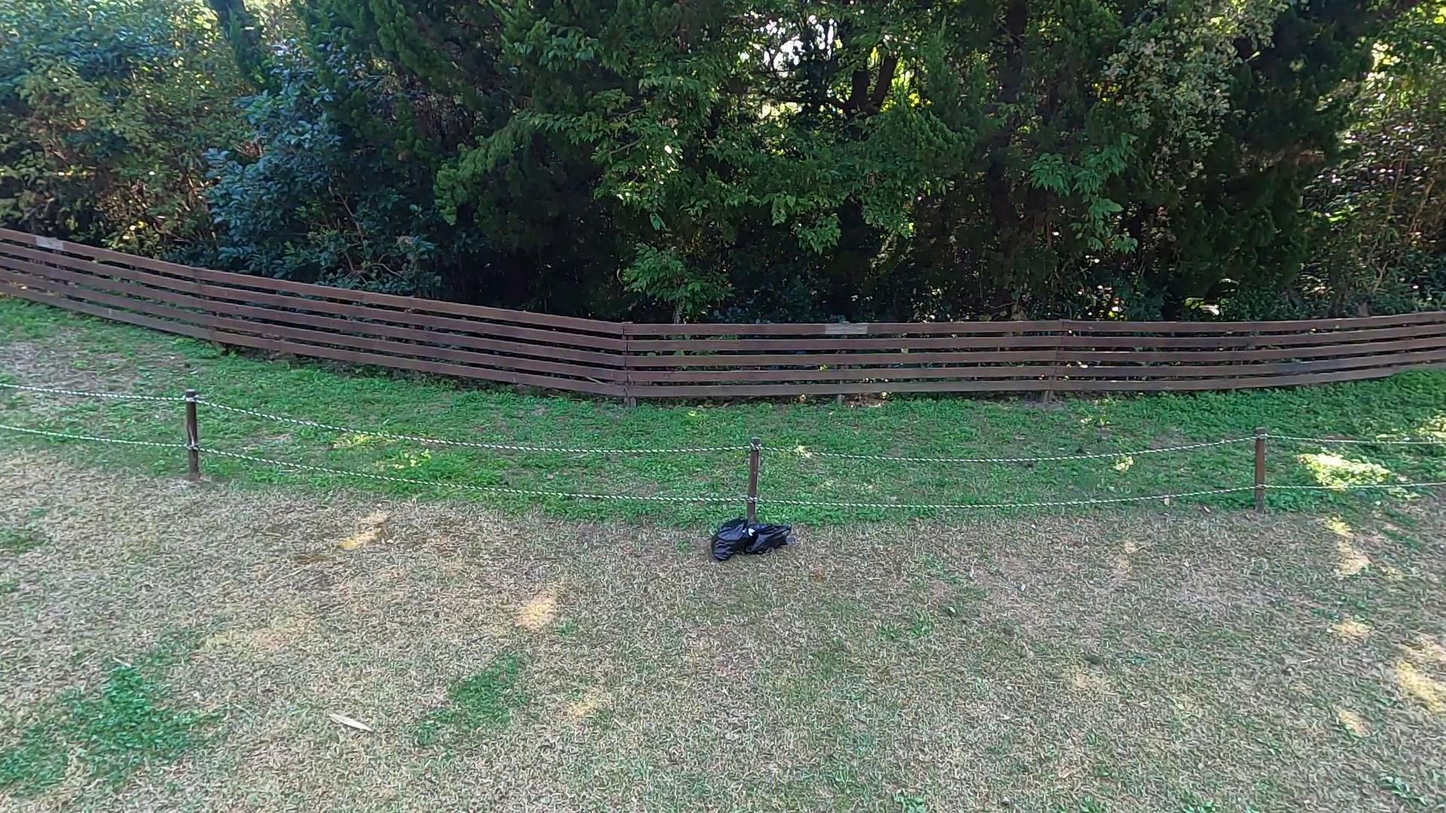trash: (710, 509, 760, 568), (740, 515, 795, 559)
